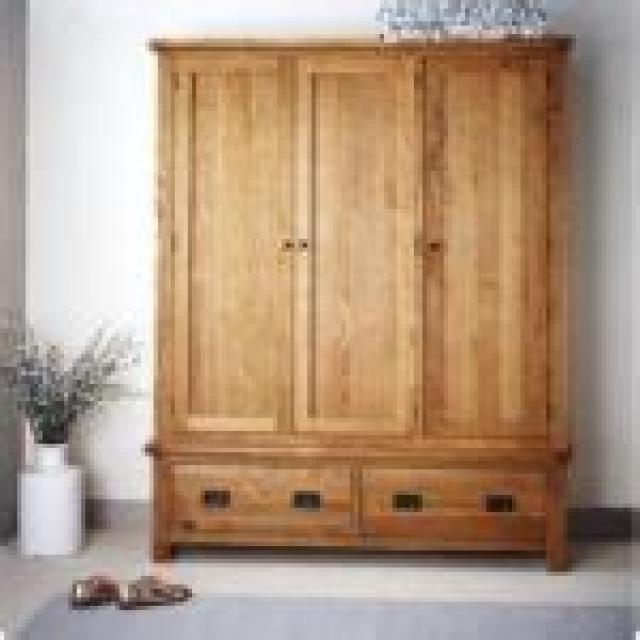Closet: (137, 26, 580, 576)
